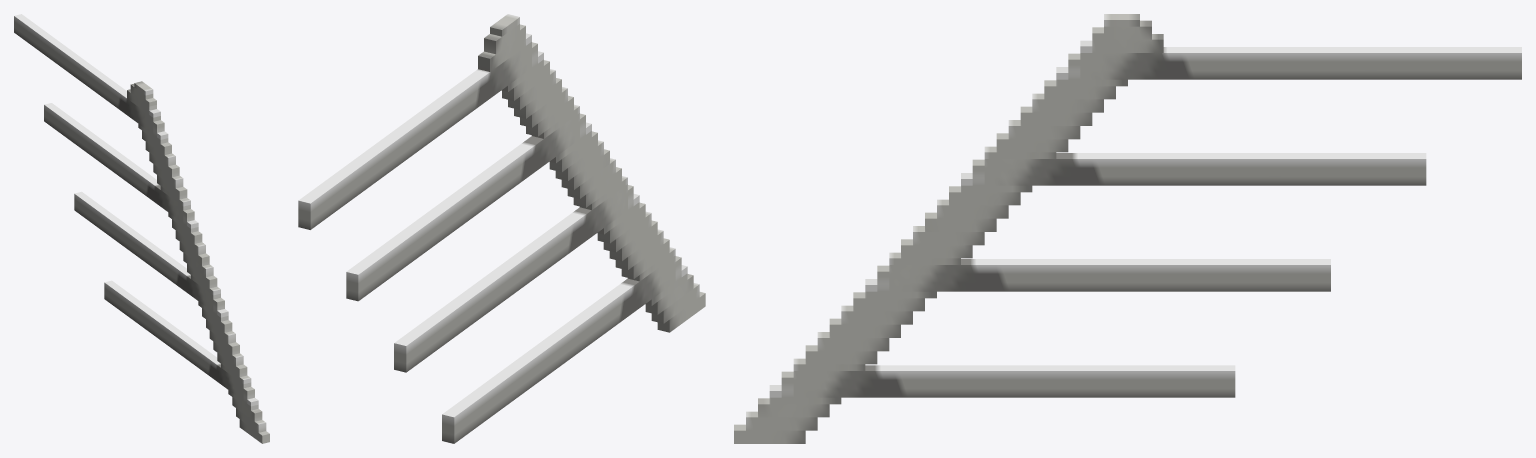
Rendered from rail.obj.
3 renders of one model, left to right at view 1: azimuth 30°, elevation 25°; view 2: azimuth 150°, elevation 25°; view 3: azimuth 270°, elevation 25°, orthographic. The views are drawn at different scales.
Bounding box in the file's own units: 0.03 × 1 × 1.68.
Materials: 1 (1 with a texture image).
